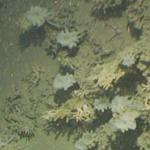alive: (4, 4, 146, 147)
